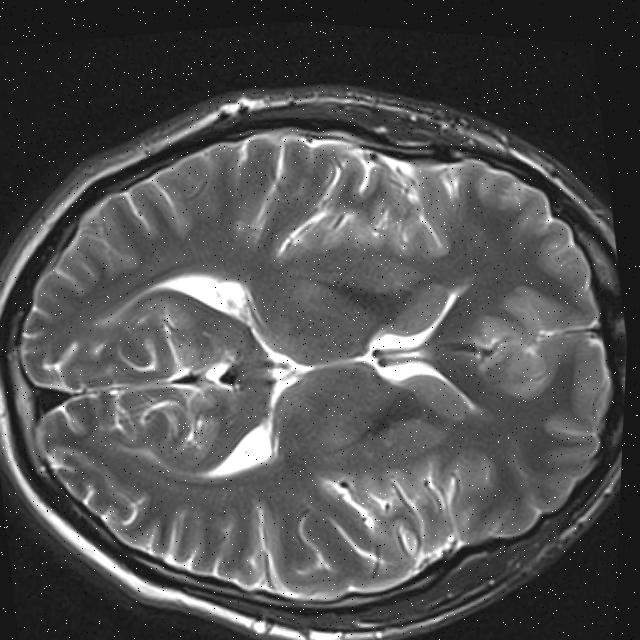NoTumor: (0, 19, 639, 640)
